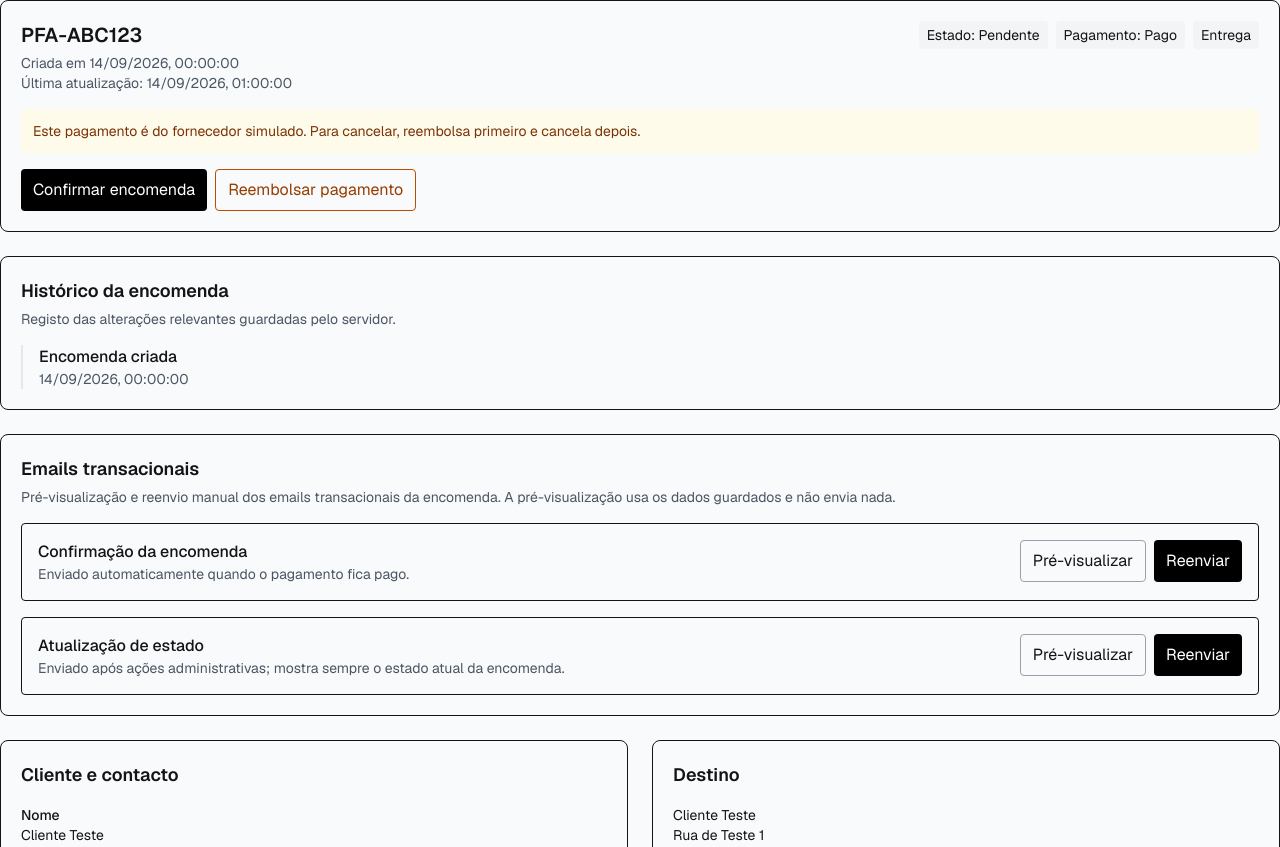
Scenario: Admin Order Detail Client › depois do reembolso apresenta cancelamento com reposição de stock
Click the button "Reembolsar pagamento" at (316, 190), box top-left (215, 169), bottom-right (416, 211)
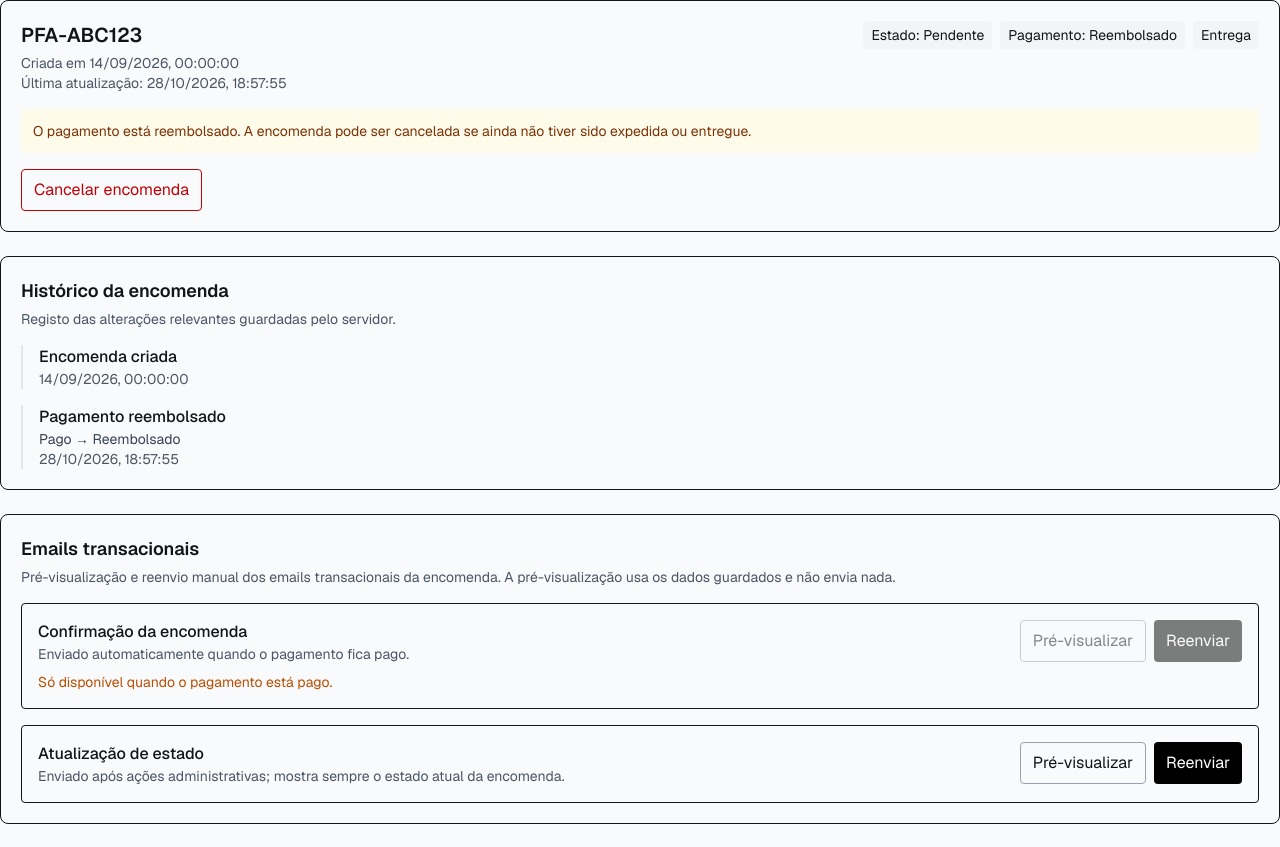
Result: the text "Pagamento: Reembolsado" is shown at top-left (1000, 21), bottom-right (1185, 49)
Result: the button "Cancelar encomenda" is shown at top-left (21, 169), bottom-right (202, 211)
